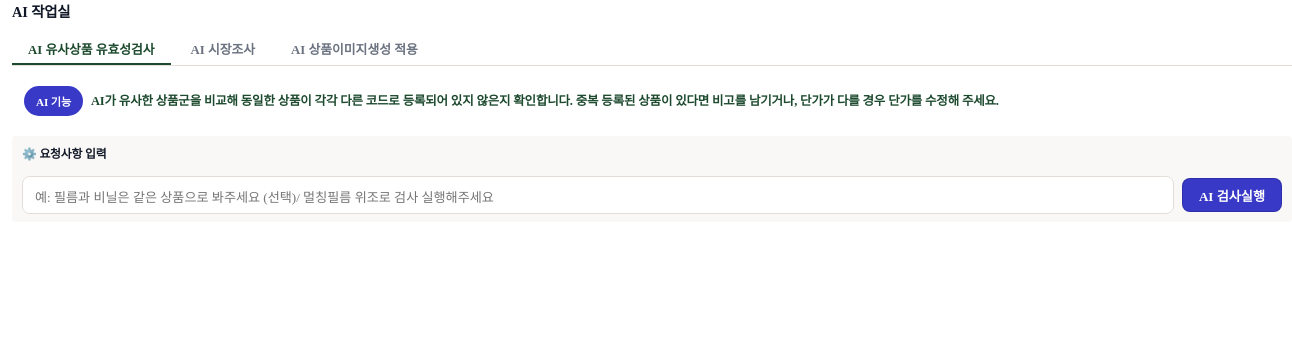
Test: WorkbookAiRecommendationPanel › renders the report as its own card, separate from the prompt input section
Click the tab "AI 시장조사" at (223, 50), box [175, 34, 271, 65]
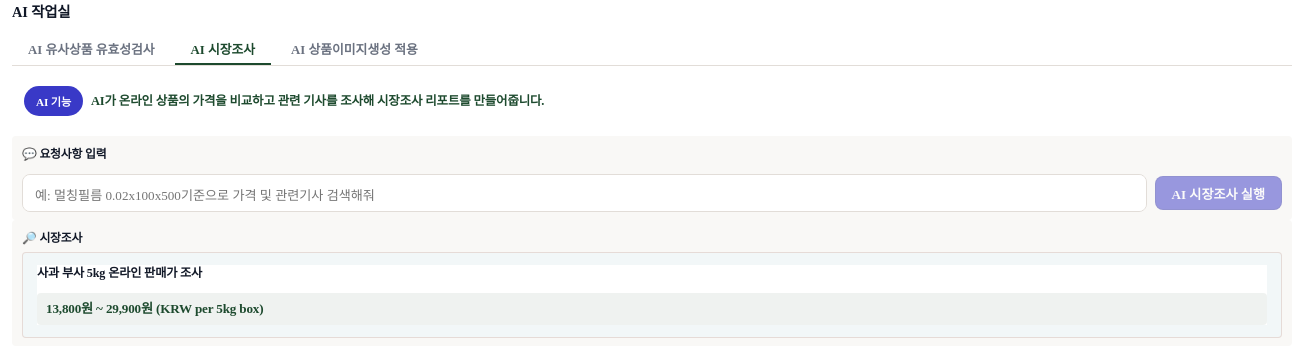
Check: the text "사과 부사 5kg 온라인 판매가 조사" is shown, box [37, 266, 202, 280]
